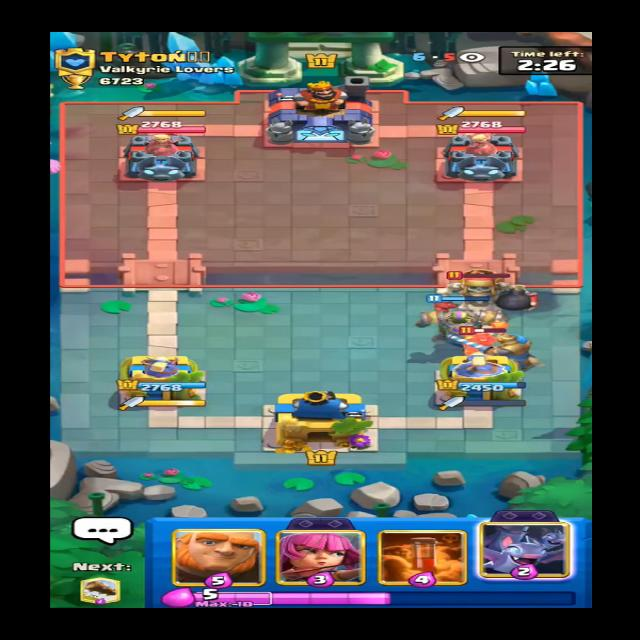giant-skeleton: (423, 262, 540, 318)
hog-rider: (445, 321, 521, 369)
